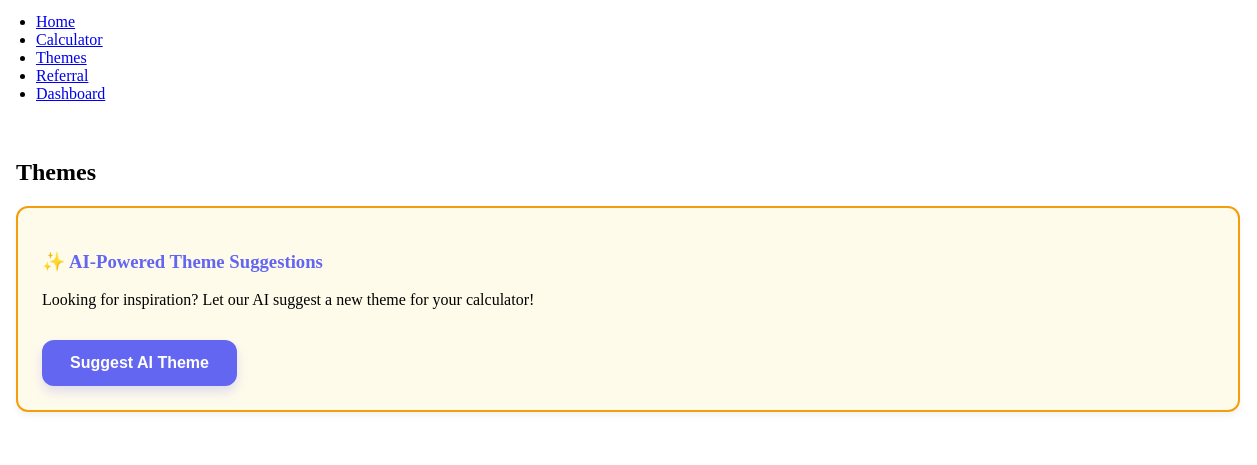
Test: App routing › navigates to Referral page
Step 1. Click the link "Referral" → (62, 76), box [36,67,88,84]
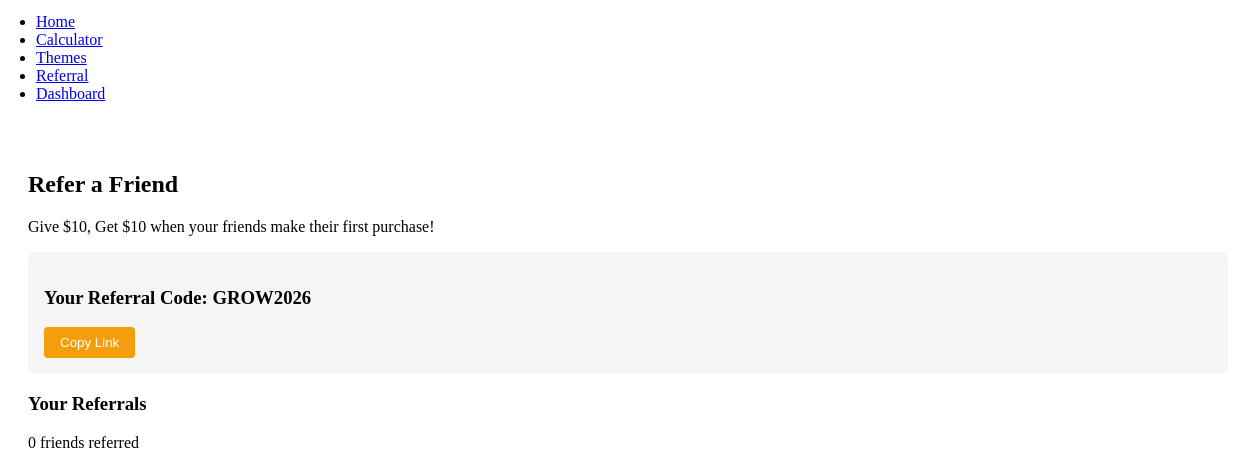
Expected: the heading "Refer a Friend" is shown, [28,171,178,197]
